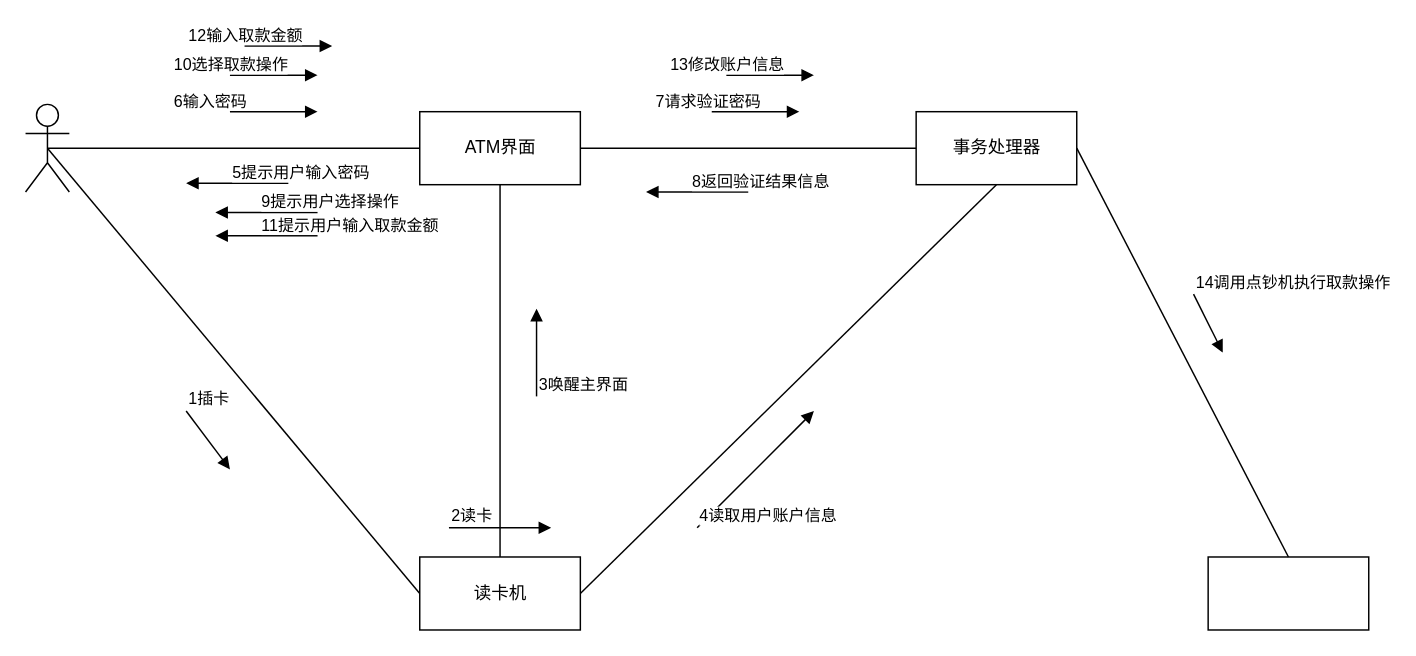
This 1416x656 diagram has some shape labels left out. Each missing label, with the centre of its shape:
客户: the point at 46,147
点钞机: the point at 1288,593
